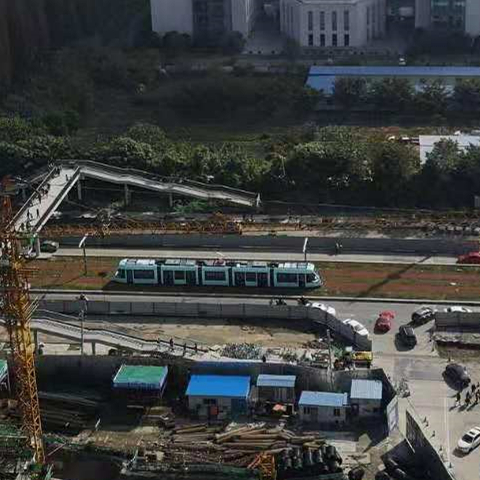car: (109, 252, 327, 293)
